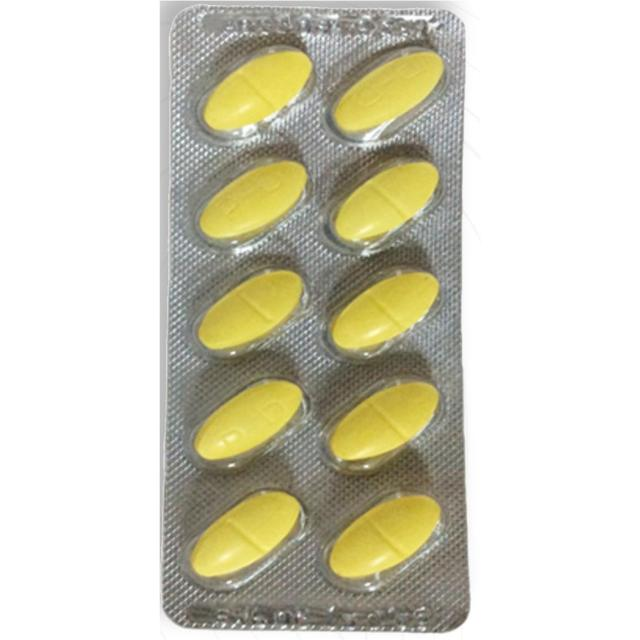blister: (163, 2, 471, 636)
